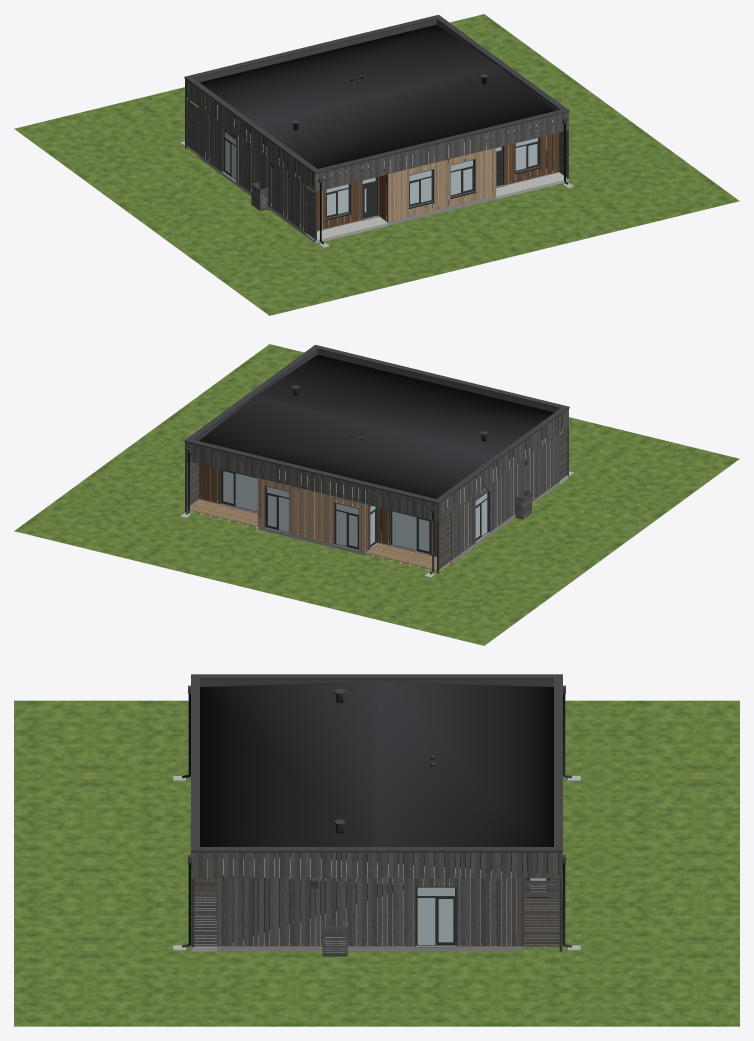
File: karjaari21a_maja.glb
3 views of the same model, one above another, from view 1: azimuth 30°, elevation 25°; view 2: azimuth 150°, elevation 25°; view 3: azimuth 270°, elevation 25° (orthographic). The views are drawn at different scales.
Visible parts, largest first — view 1: muru|lm2, sbs|dark, laudis_tumehall|lm0, plekk|lm0, laudis_hele|lm0, klaas|glass, sbs|lm1, laudis_pruun|lm0, laudis_pruun|lm1, betoon_valis|lm0, plekk|lm1, sokliplaat|lm0 (+4 smaller); view 2: muru|lm2, sbs|dark, laudis_tumehall|lm0, laudis_tumehall|lm1, klaas|glass, plekk|lm0, laudis_hele|lm1, sbs|lm1, plekk|lm1, pvc_antratsiit|lm0, sokliplaat|lm0, terrassilaud|lm1 (+5 smaller); view 3: muru|lm2, sbs|dark, laudis_tumehall|lm1, plekk|lm0, klaas|glass, sokliplaat|lm1, sbs|lm0, plekk|lm1, sisevarv|lm1, tuuletokkeplaat|dark, sadevesi|vc, pvc_antratsiit|lm1 (+2 smaller).
Part boxes in pixels (x1,y1,x2,y2): muru|lm2: [14, 14, 739, 315]; sbs|dark: [199, 24, 554, 168]; laudis_tumehall|lm0: [185, 79, 568, 238]; plekk|lm0: [184, 14, 569, 220]; laudis_hele|lm0: [388, 148, 496, 222]; klaas|glass: [225, 132, 537, 215]; sbs|lm1: [194, 19, 559, 175]; laudis_pruun|lm0: [198, 106, 387, 233]; laudis_pruun|lm1: [492, 133, 559, 192]; betoon_valis|lm0: [180, 141, 568, 247]; plekk|lm1: [193, 18, 560, 198]; sokliplaat|lm0: [199, 155, 495, 236]; muru|lm2: [14, 344, 739, 645]; sbs|dark: [199, 354, 554, 498]; laudis_tumehall|lm0: [374, 409, 568, 568]; laudis_tumehall|lm1: [185, 442, 438, 521]; klaas|glass: [223, 471, 487, 551]; plekk|lm0: [184, 344, 569, 554]; laudis_hele|lm1: [257, 478, 365, 551]; sbs|lm1: [194, 349, 559, 505]; plekk|lm1: [188, 348, 560, 550]; pvc_antratsiit|lm0: [335, 492, 488, 554]; sokliplaat|lm0: [258, 481, 559, 563]; terrassilaud|lm1: [186, 499, 257, 526]; muru|lm2: [14, 700, 739, 1026]; sbs|dark: [200, 681, 553, 846]; laudis_tumehall|lm1: [191, 852, 562, 956]; plekk|lm0: [190, 674, 562, 850]; klaas|glass: [418, 878, 546, 944]; sokliplaat|lm1: [217, 897, 559, 951]; sbs|lm0: [200, 680, 553, 686]; plekk|lm1: [190, 762, 562, 946]; sisevarv|lm1: [207, 859, 516, 944]; tuuletokkeplaat|dark: [222, 853, 558, 944]; sadevesi|vc: [182, 694, 571, 947]; pvc_antratsiit|lm1: [416, 878, 549, 945].
Size of what is drawn, in the model's own units: 30.38 by 4.98 by 28.6.
Materials: 84 (32 with a texture image).
